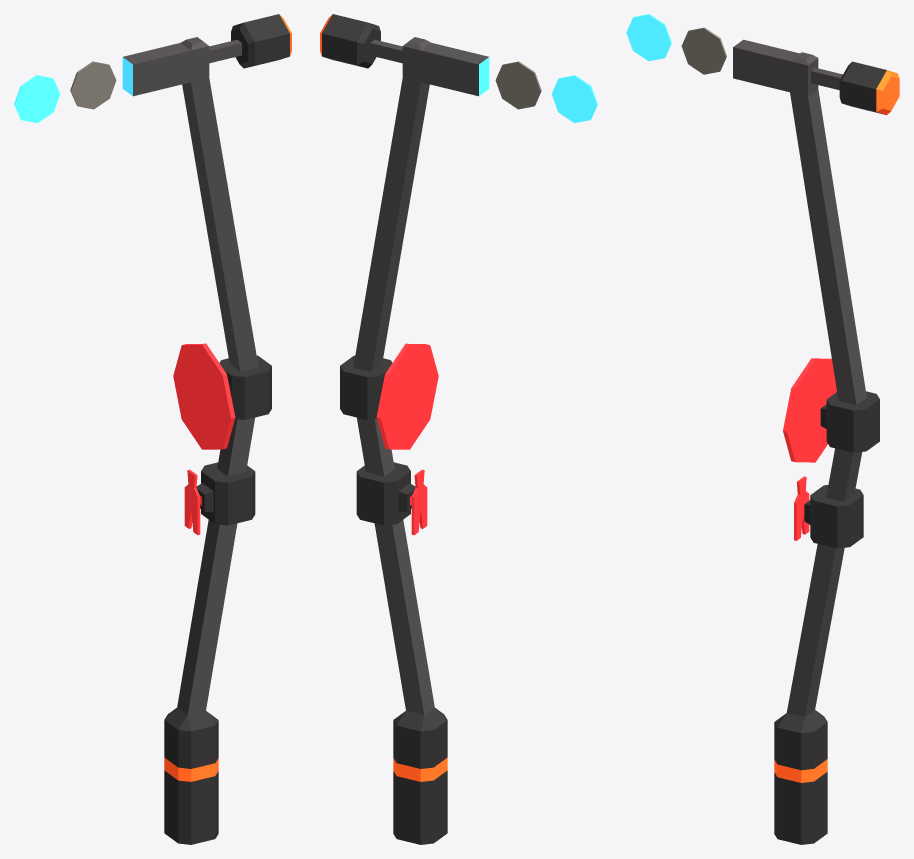
Rendered from scifi_scifi-traffic-lights-pedestrian-stop.fbx.
The picture shows the model from 3 angles, left to right: view 1: azimuth 30°, elevation 25°; view 2: azimuth 150°, elevation 25°; view 3: azimuth 330°, elevation 25°; orthographic projection.
Visible parts, largest first — view 1: scifi_scifi_traffic_lights_pedestrian_stop; view 2: scifi_scifi_traffic_lights_pedestrian_stop; view 3: scifi_scifi_traffic_lights_pedestrian_stop.
Part boxes in pixels (x1,y1,x2,y2): scifi_scifi_traffic_lights_pedestrian_stop: (14, 14, 291, 844); scifi_scifi_traffic_lights_pedestrian_stop: (320, 14, 597, 844); scifi_scifi_traffic_lights_pedestrian_stop: (626, 14, 899, 844).
Size of the model in its own units: 70.53 by 200 by 26.31.
